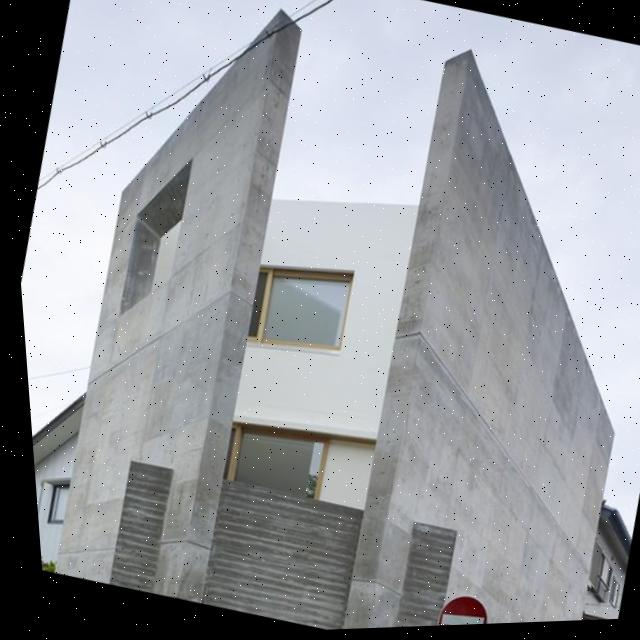building: (12, 0, 640, 640), (27, 368, 101, 573), (555, 493, 640, 621)
